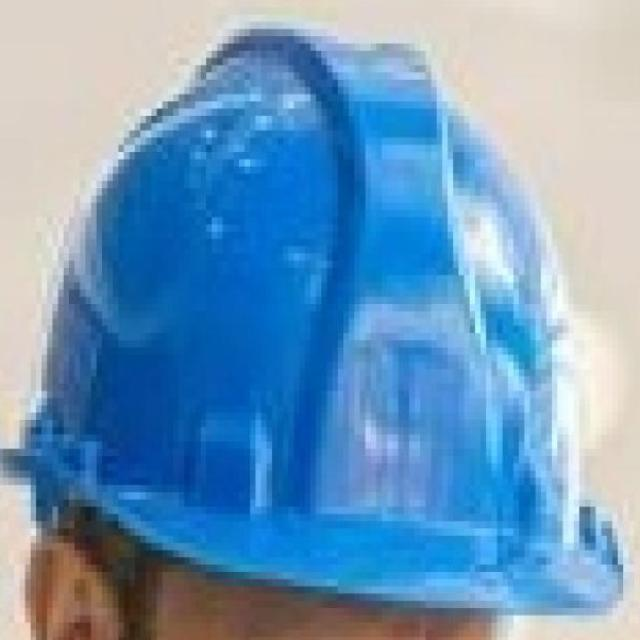helmet: (0, 20, 630, 614)
